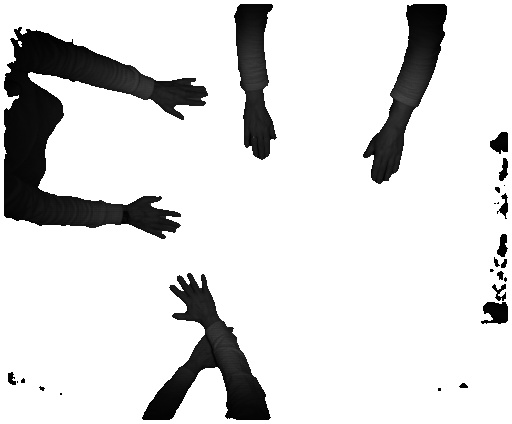hand: (168, 272, 223, 328), (128, 192, 183, 239), (360, 128, 407, 183), (157, 72, 207, 119), (240, 104, 279, 159)
